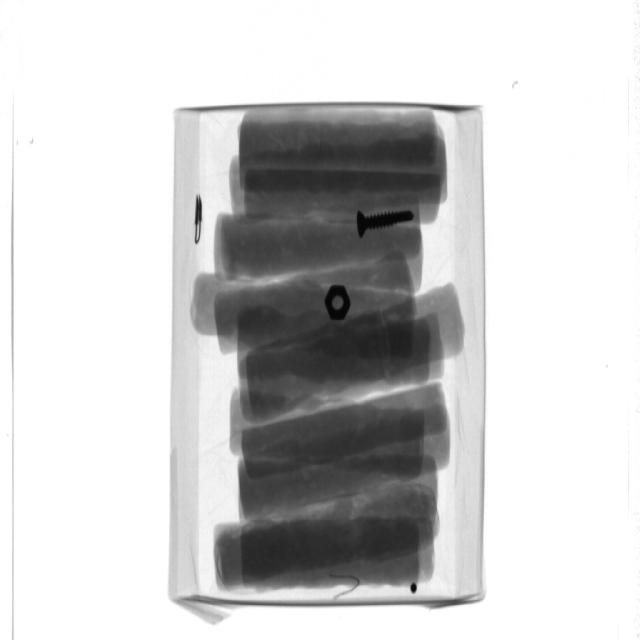ym: (358, 209, 416, 240), (330, 573, 362, 600), (326, 287, 351, 321), (196, 193, 204, 247), (412, 585, 421, 595)
